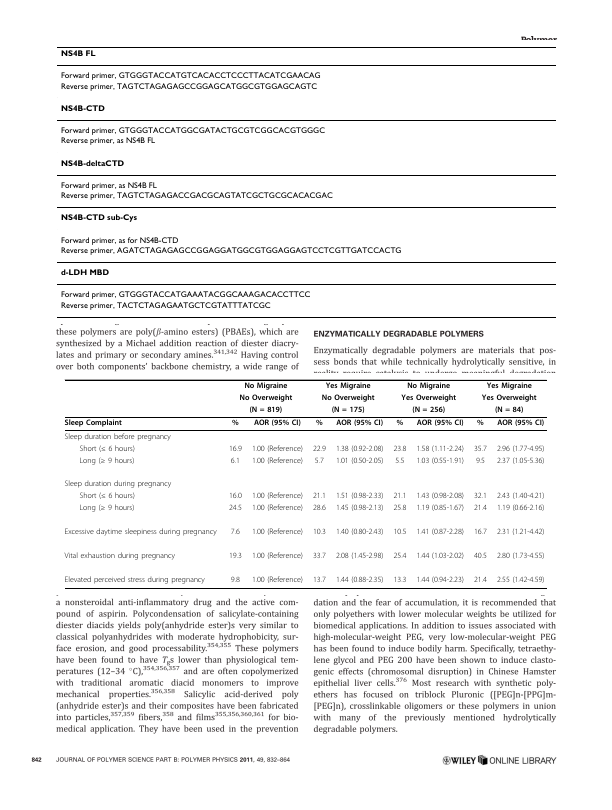borderless: (56, 45, 556, 317), (64, 378, 547, 588)
cell: (59, 246, 402, 256), (59, 191, 333, 201), (59, 126, 326, 136), (59, 82, 318, 92), (59, 72, 321, 81), (59, 291, 311, 300), (59, 301, 271, 311), (64, 528, 218, 537), (64, 576, 206, 585), (59, 236, 179, 246), (64, 432, 172, 442), (64, 480, 172, 490), (64, 552, 176, 561), (59, 181, 157, 191), (59, 137, 156, 146), (59, 214, 138, 223), (59, 159, 125, 169), (78, 444, 136, 454), (78, 492, 136, 502), (78, 456, 135, 466), (78, 504, 135, 514), (64, 419, 123, 428), (251, 444, 304, 454), (251, 456, 304, 466), (251, 492, 304, 502), (251, 504, 304, 514), (400, 394, 457, 403), (481, 394, 537, 403), (415, 444, 465, 454), (415, 456, 465, 466), (415, 492, 465, 502), (415, 504, 465, 514), (335, 444, 384, 454), (496, 444, 545, 454), (335, 456, 384, 466), (496, 456, 545, 466), (335, 492, 384, 502), (496, 492, 545, 502), (335, 504, 384, 514), (496, 504, 545, 514), (239, 394, 293, 403), (321, 394, 375, 403), (251, 528, 304, 537), (251, 552, 304, 561), (251, 576, 304, 585), (59, 104, 105, 114), (415, 528, 465, 537), (415, 552, 465, 561), (415, 576, 465, 585), (59, 269, 109, 278), (253, 419, 302, 428), (335, 419, 384, 428), (496, 419, 545, 428), (335, 528, 384, 537), (496, 528, 545, 537), (335, 552, 384, 561), (496, 552, 545, 561), (335, 576, 384, 585), (496, 576, 545, 585), (416, 419, 464, 428), (325, 382, 372, 391), (486, 382, 533, 391), (243, 382, 288, 391), (406, 382, 451, 391), (59, 50, 96, 59), (248, 406, 283, 415), (411, 406, 446, 415), (331, 406, 365, 415), (494, 406, 524, 415), (228, 444, 243, 454), (312, 444, 327, 454), (392, 444, 407, 454), (473, 444, 488, 454), (228, 492, 243, 502), (312, 492, 327, 502), (392, 492, 407, 502), (473, 492, 488, 502), (228, 504, 243, 514), (312, 504, 327, 514), (392, 504, 407, 514), (473, 504, 488, 514), (312, 528, 327, 537), (392, 528, 407, 537), (473, 528, 488, 537), (228, 552, 243, 561), (312, 552, 327, 561), (392, 552, 407, 561), (473, 552, 488, 561), (312, 576, 327, 585), (392, 576, 407, 585), (473, 576, 488, 585), (230, 456, 241, 466), (314, 456, 325, 466), (394, 456, 405, 466), (475, 456, 486, 466), (230, 528, 241, 537), (230, 576, 241, 585), (231, 419, 240, 428), (315, 419, 324, 428), (395, 419, 404, 428), (476, 419, 485, 428)
